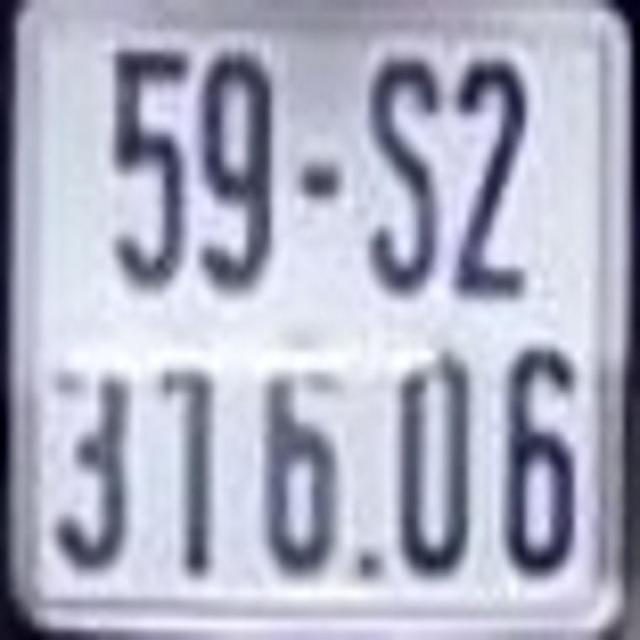0: (395, 340, 474, 574)
1: (161, 362, 211, 576)
2: (459, 58, 529, 304)
3: (50, 356, 138, 568)
5: (114, 51, 186, 292)
6: (264, 346, 348, 573), (506, 340, 578, 570)
9: (202, 44, 270, 286)
S: (370, 54, 442, 300)
